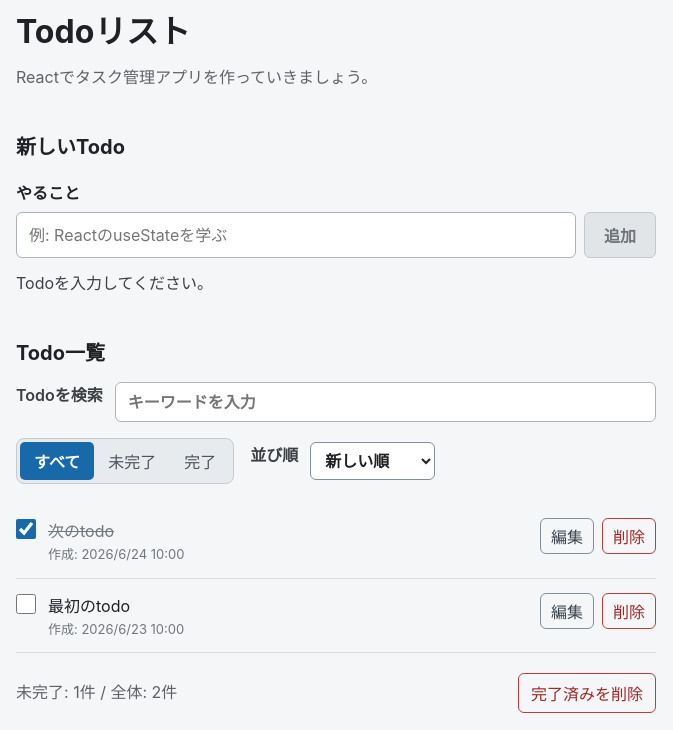
it: Home › todoを削除したら成功メッセージを表示する
Check: the list item "最初のtodo 作成: 2026/6/23 10:00 編集 削除" is shown, box [16,579,656,653]
What coordinates should you click on to do the following:
click the button with aria-label "最初のtodoを削除"
I would click on:
 (629, 611)
Its box is [602,593,656,629].
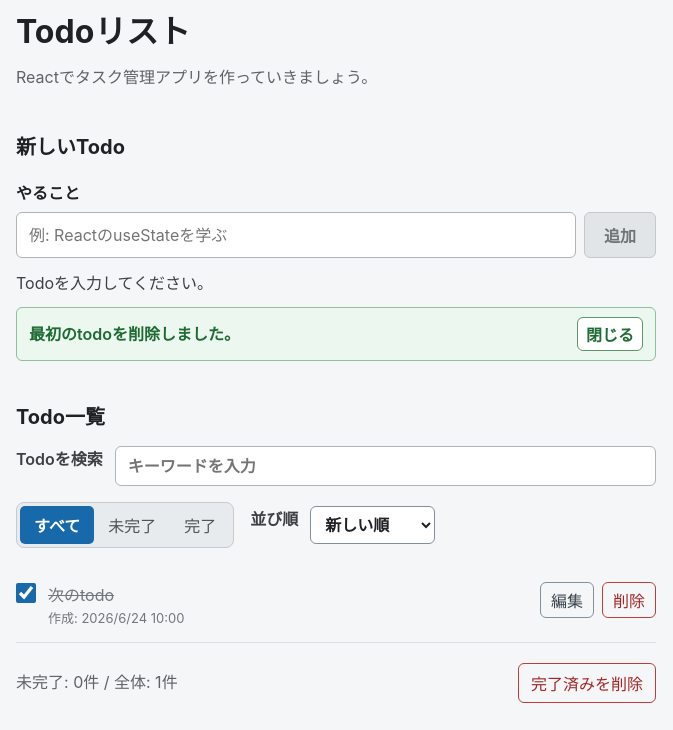
Check: the message shows "最初のtodoを削除しました。", box [29,324,240,344]
